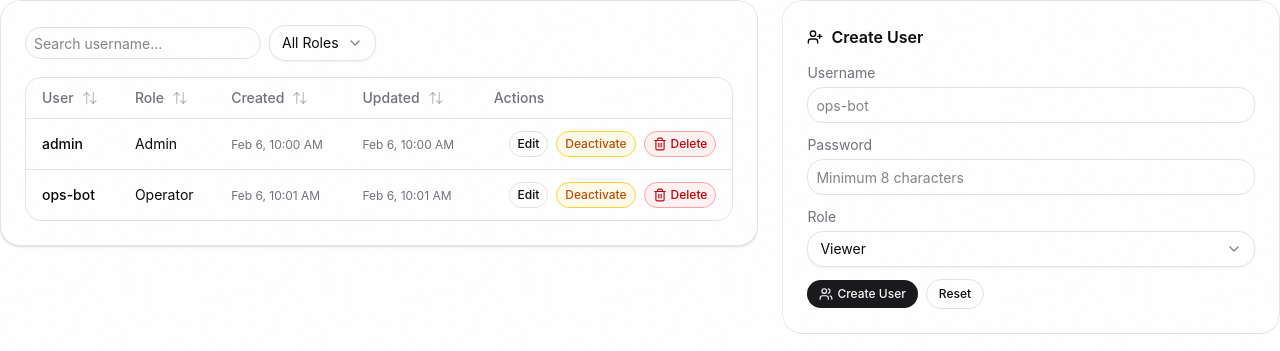
Test: UsersPanel › scrolls and focuses first input when Edit is clicked
Expected: the row that starts with "admin" is shown, [26,118,732,169]
What coordinates should you click on to do the following:
click the 1st button "Edit"
I would click on:
 (528, 144)
Its box is [508,130,548,156].
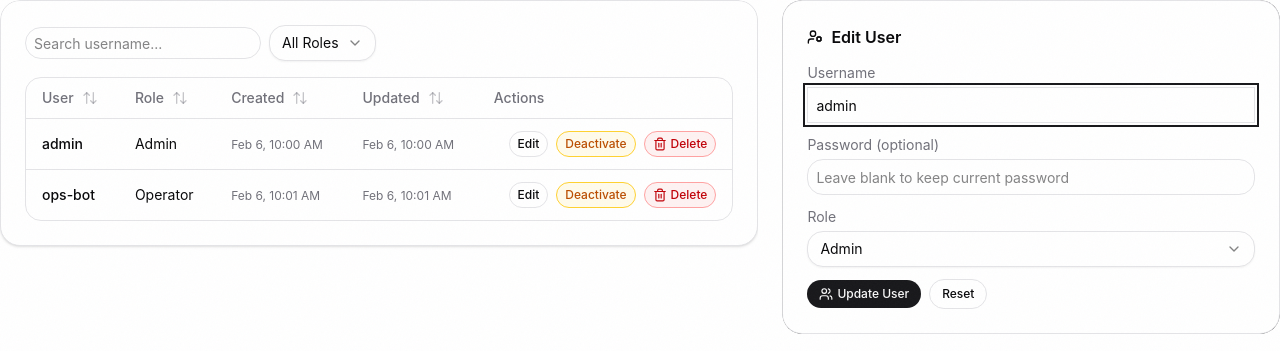
Result: the heading "Edit User" is shown at [807,25,901,49]
